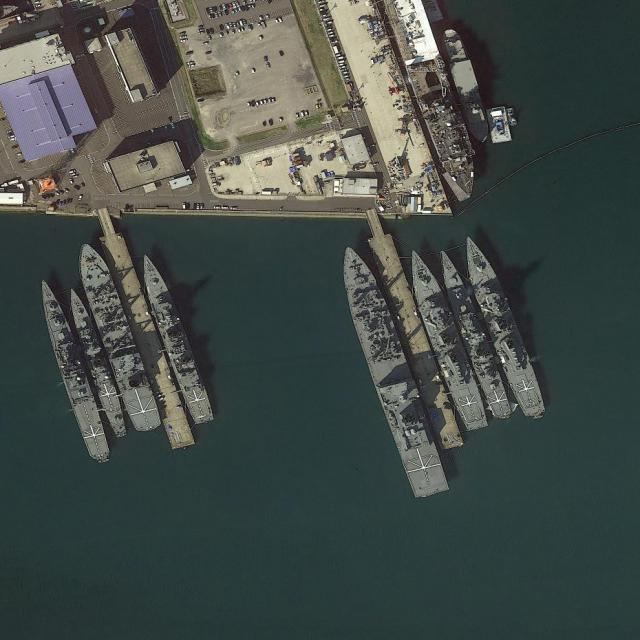Auxiliary Ships: (330, 240, 449, 499), (72, 239, 162, 434)
Destroyer: (454, 231, 550, 425), (400, 244, 492, 436), (430, 235, 514, 426), (133, 249, 217, 427), (63, 286, 130, 437)
Dock: (360, 210, 463, 456), (94, 212, 193, 453)
